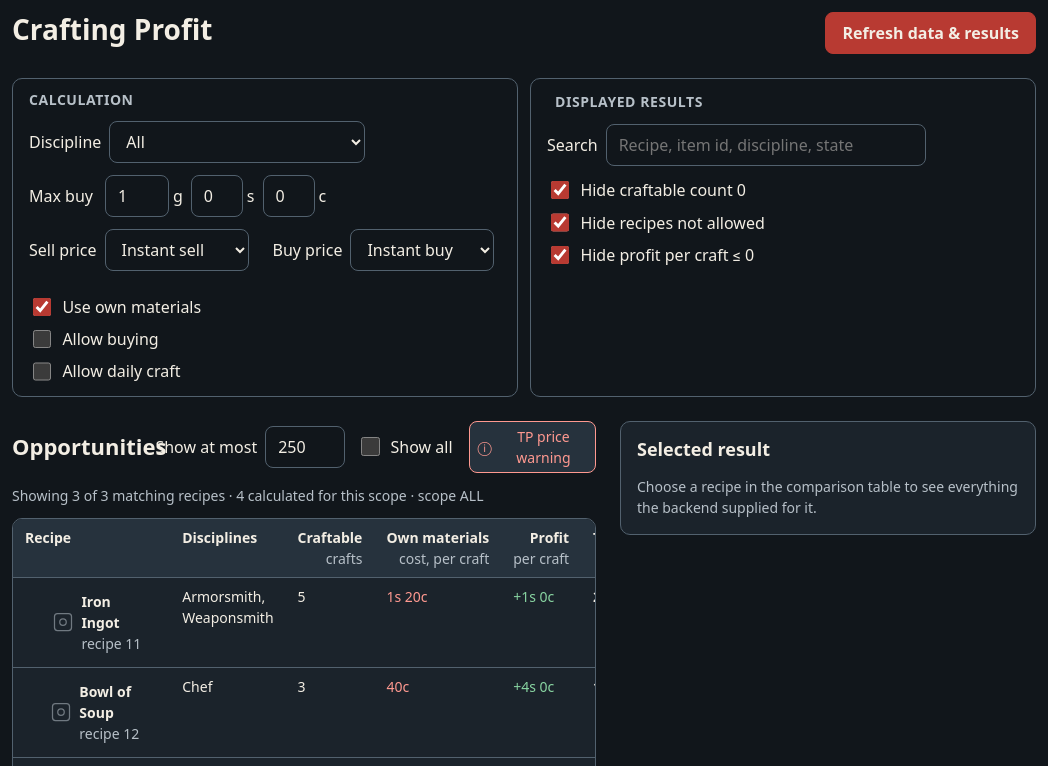
Test case: CraftingProfitScreen › filtersTheDisplayedRowsBySearchWithoutRequestingAgain
Type "Iron" into the search field with test id "search" showing "Search" at (766, 145), box [606,124,926,166]
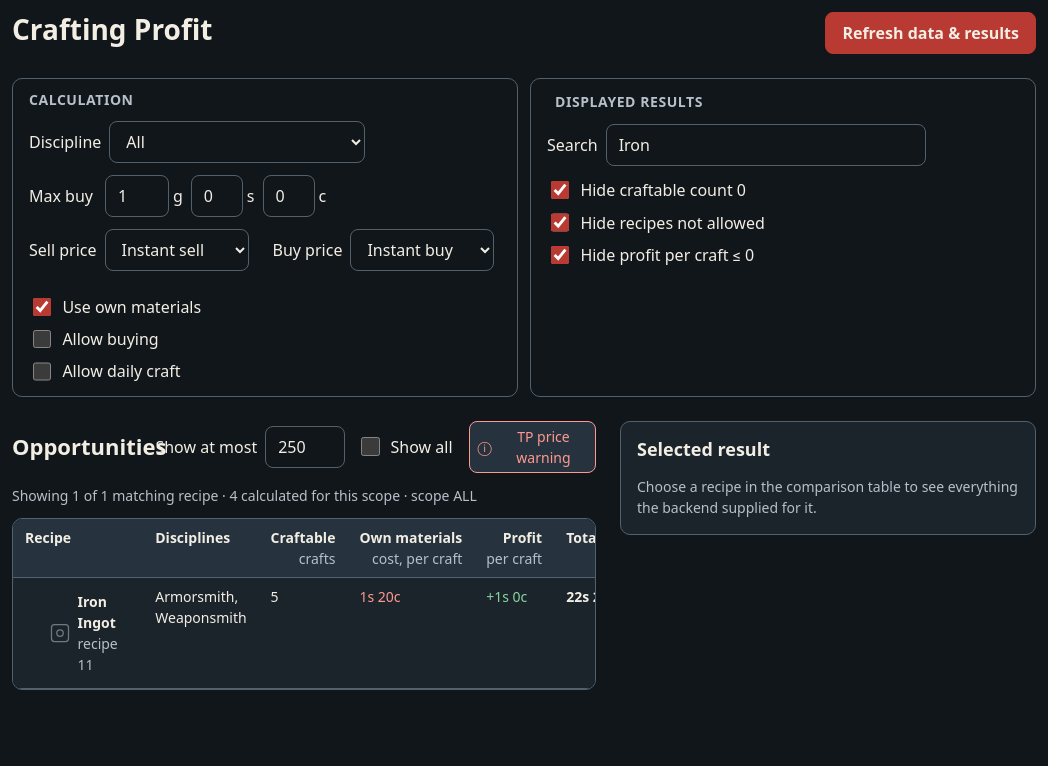
Expected: the row with test id "profit-row" shows "Iron Ingot", [25,586,131,680]
Expected: the number of rows with test id "profit-row" is 1, [13,578,596,688]
Replace the text in the search field with test id "search" showing "Search" with "no such recipe" at (766, 145), box [606,124,926,166]
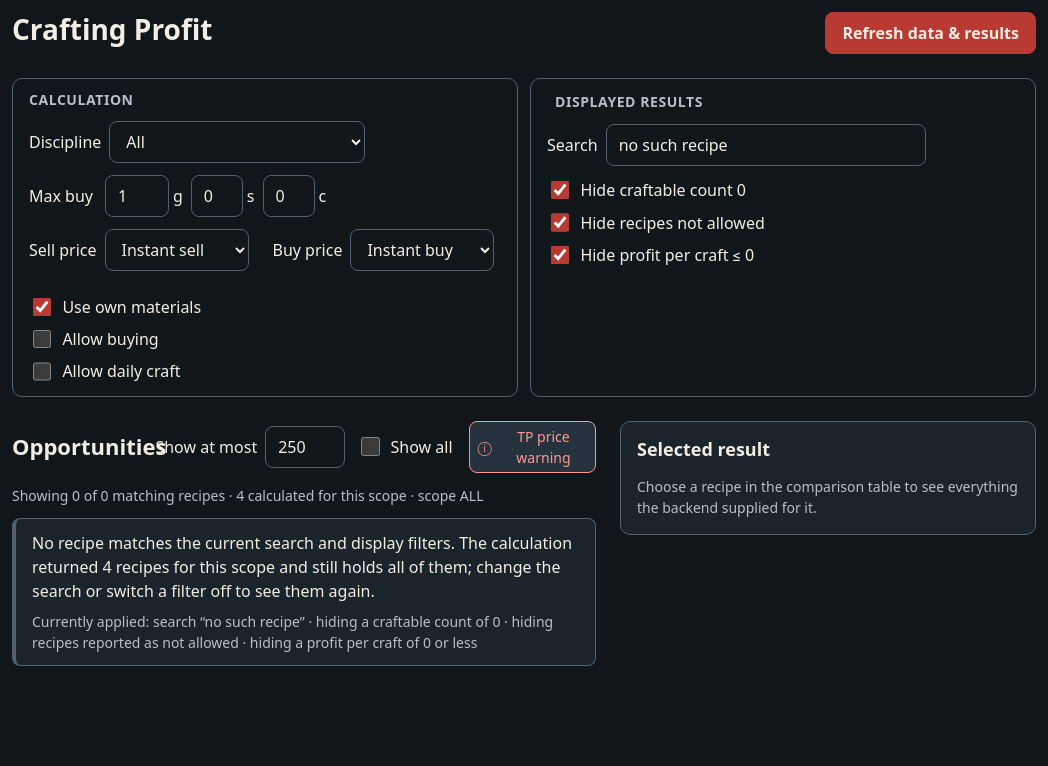
Expected: the element with test id "no-matches" is shown, [12,518,596,666]
